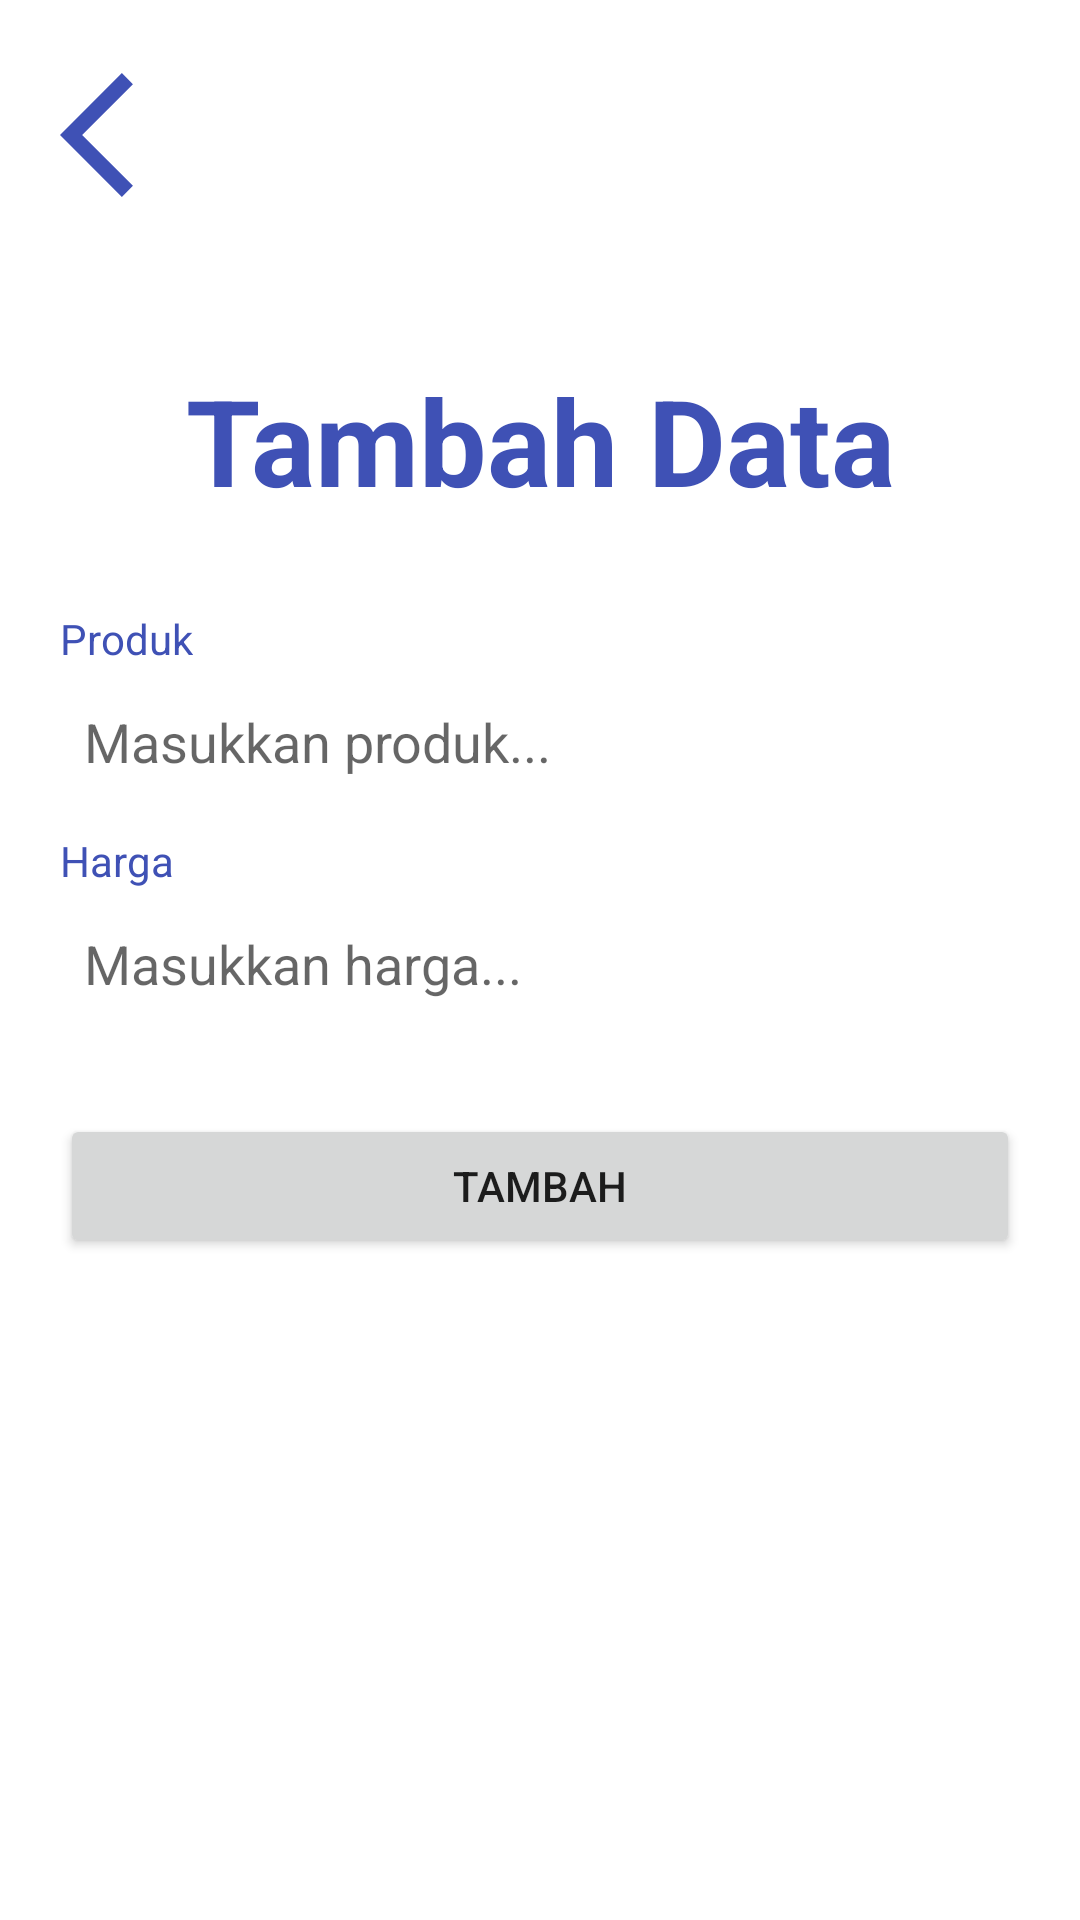

Icons on this 1080x1920 Android screen, each with the point to tap as [x,y]:
back: [96,135]
